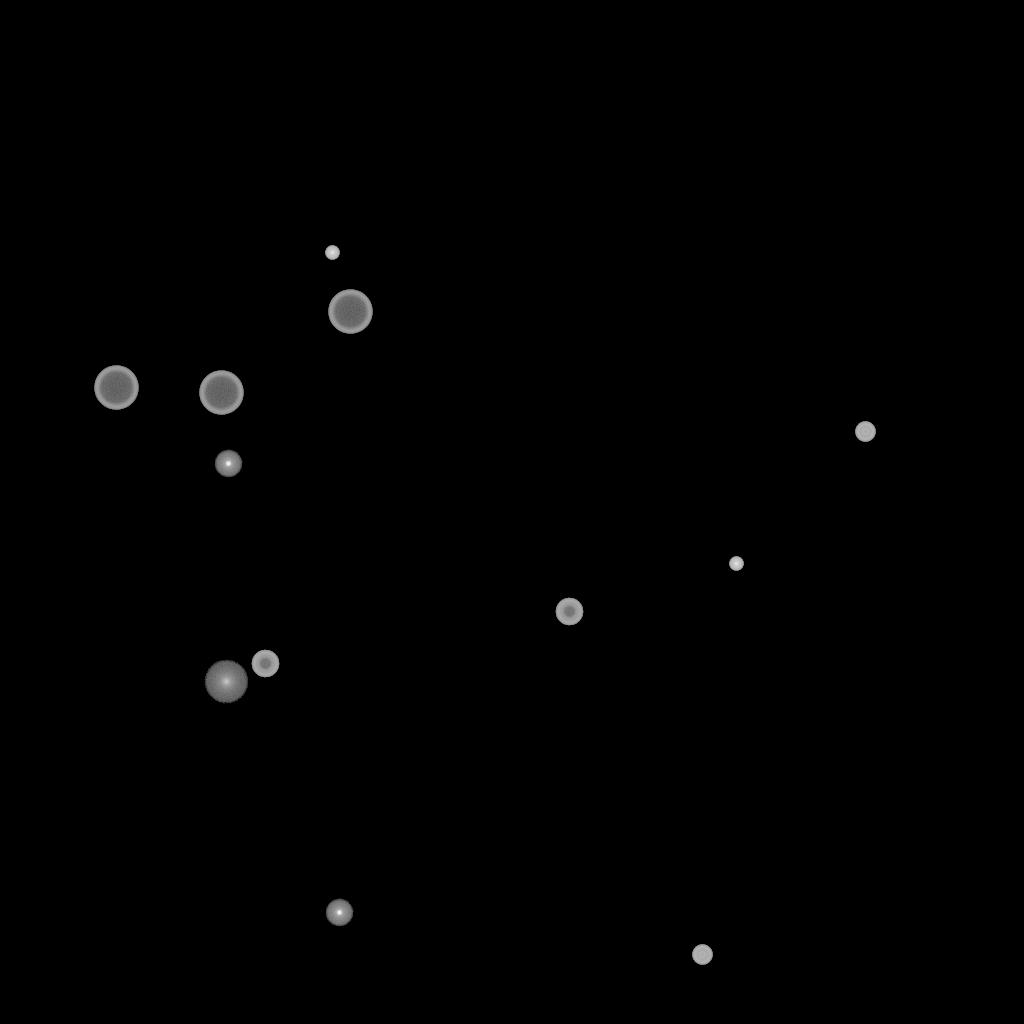depth:-10: (325, 899, 353, 927), (214, 450, 242, 478)
depth:-30: (325, 246, 339, 260), (729, 557, 743, 571)
depth:-40: (855, 422, 875, 442), (692, 945, 712, 965)
depth:-50: (555, 598, 583, 626), (251, 650, 279, 678)
depth:-70: (328, 290, 372, 334), (94, 366, 138, 410), (199, 371, 243, 415)
depth:10: (204, 660, 248, 704)
